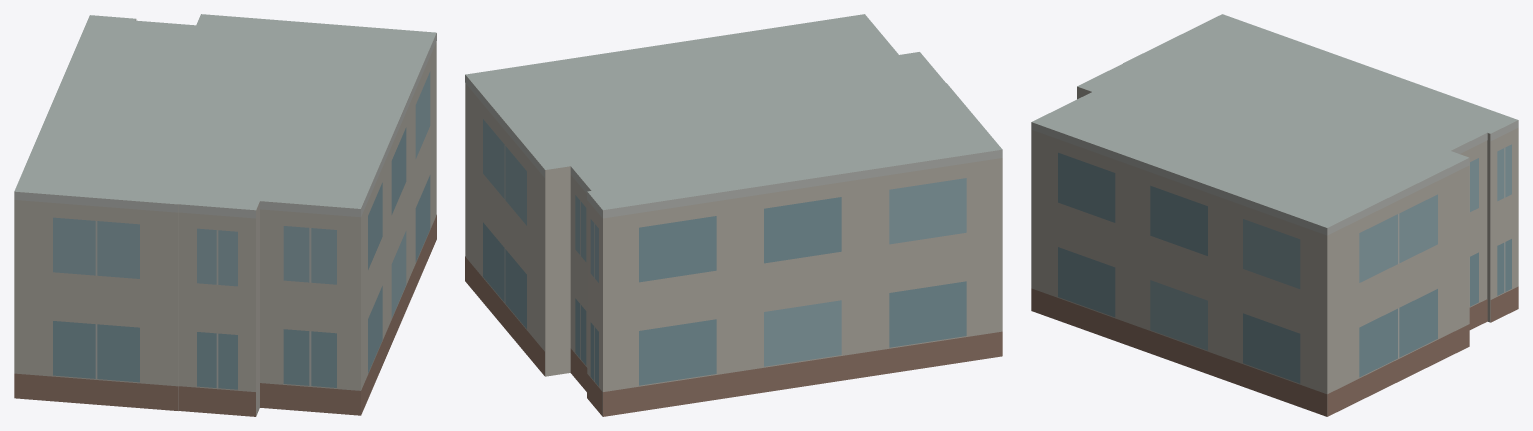
Rendered from survey-upis-32807377.glb.
The picture shows the model from 3 angles, left to right: view 1: azimuth 30°, elevation 25°; view 2: azimuth 150°, elevation 25°; view 3: azimuth 270°, elevation 25°; orthographic projection. The views are drawn at different scales.
Parts seen in each view (by area): view 1: survey-upis-32807377.tmp; view 2: survey-upis-32807377.tmp; view 3: survey-upis-32807377.tmp.
Part boxes in pixels (x1,y1,x2,y2): survey-upis-32807377.tmp: [14, 14, 436, 416]; survey-upis-32807377.tmp: [465, 14, 1002, 416]; survey-upis-32807377.tmp: [1031, 14, 1518, 416].
Size of the model in its own units: 14.84 by 6.1 by 14.27.
